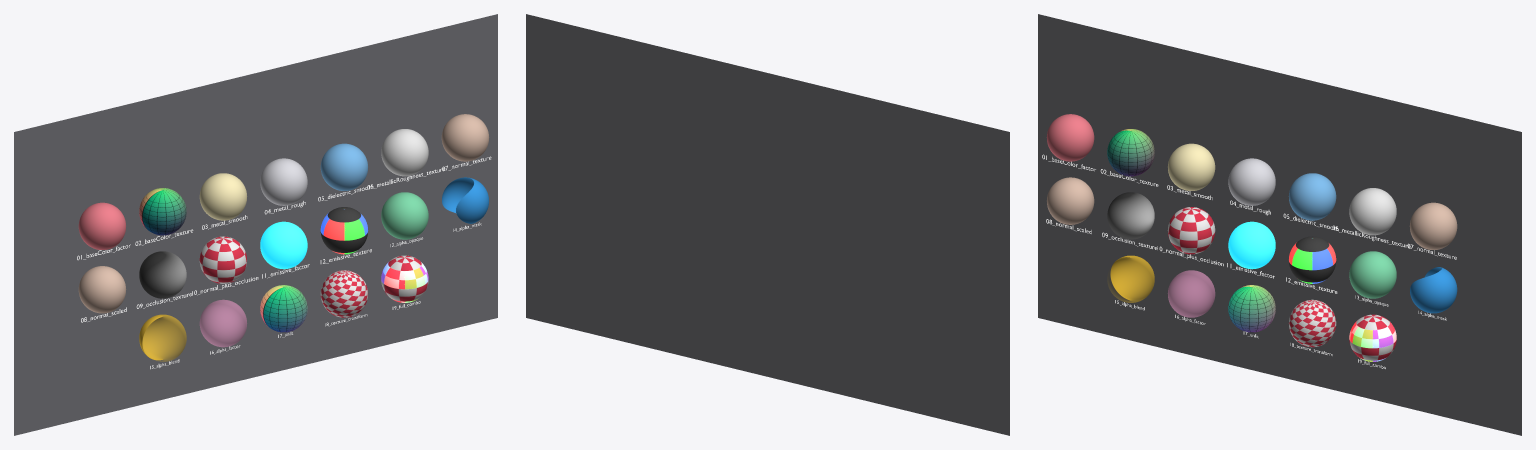
The model's file is gltf_material_test_grid.glb.
3 renders of one model, left to right at view 1: azimuth 30°, elevation 25°; view 2: azimuth 150°, elevation 25°; view 3: azimuth 330°, elevation 25°, orthographic.
Parts seen in each view (by area): view 1: backdrop, cell_18_texture_transform, cell_11_emissive_factor, cell_10_normal_plus_occlusion, cell_06_metallicRoughness_texture, cell_07_normal_texture, cell_17_unlit, cell_19_full_combo, cell_02_baseColor_texture, cell_08_normal_scaled, cell_03_metal_smooth, cell_13_alpha_opaque (+8 smaller); view 2: backdrop; view 3: backdrop, cell_16_alpha_factor, cell_11_emissive_factor, cell_12_emissive_texture, cell_19_full_combo, cell_01_baseColor_factor, cell_02_baseColor_texture, cell_17_unlit, cell_06_metallicRoughness_texture, cell_05_dielectric_smooth, cell_08_normal_scaled, cell_09_occlusion_texture (+8 smaller).
Boxes of the visible parts, left/top/right/bottom form: backdrop: left=14, top=14, right=497, bottom=435; cell_18_texture_transform: left=320, top=270, right=368, bottom=317; cell_11_emissive_factor: left=260, top=221, right=307, bottom=269; cell_10_normal_plus_occlusion: left=199, top=236, right=246, bottom=283; cell_06_metallicRoughness_texture: left=381, top=129, right=428, bottom=176; cell_07_normal_texture: left=441, top=114, right=489, bottom=161; cell_17_unlit: left=260, top=285, right=307, bottom=332; cell_19_full_combo: left=381, top=255, right=428, bottom=302; cell_02_baseColor_texture: left=139, top=188, right=186, bottom=235; cell_08_normal_scaled: left=78, top=266, right=126, bottom=313; cell_03_metal_smooth: left=199, top=173, right=247, bottom=220; cell_13_alpha_opaque: left=381, top=192, right=428, bottom=239; backdrop: left=526, top=14, right=1009, bottom=435; backdrop: left=1038, top=14, right=1521, bottom=435; cell_16_alpha_factor: left=1167, top=270, right=1215, bottom=317; cell_11_emissive_factor: left=1228, top=221, right=1275, bottom=269; cell_12_emissive_texture: left=1289, top=236, right=1336, bottom=283; cell_19_full_combo: left=1349, top=314, right=1396, bottom=361; cell_01_baseColor_factor: left=1046, top=114, right=1094, bottom=161; cell_02_baseColor_texture: left=1107, top=129, right=1154, bottom=176; cell_17_unlit: left=1228, top=285, right=1275, bottom=332; cell_06_metallicRoughness_texture: left=1349, top=188, right=1396, bottom=235; cell_05_dielectric_smooth: left=1288, top=173, right=1336, bottom=220; cell_08_normal_scaled: left=1047, top=177, right=1094, bottom=224; cell_09_occlusion_texture: left=1107, top=192, right=1154, bottom=239.
Size of the model in its own units: 20 by 12 by 2.85.
21 materials, 8 textured.
